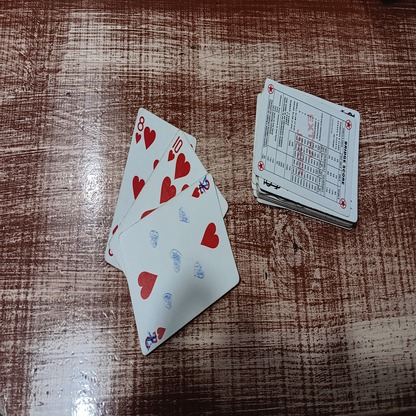10h: (168, 133, 183, 160)
2h: (142, 325, 166, 349), (191, 174, 210, 199)
8h: (134, 113, 146, 144)
